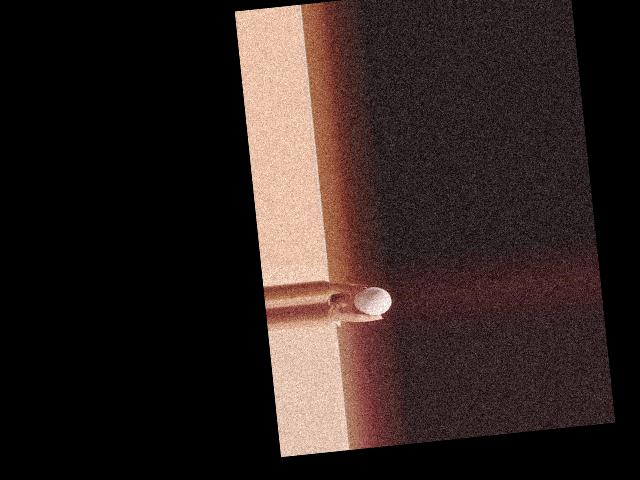egg: (352, 284, 392, 317)
